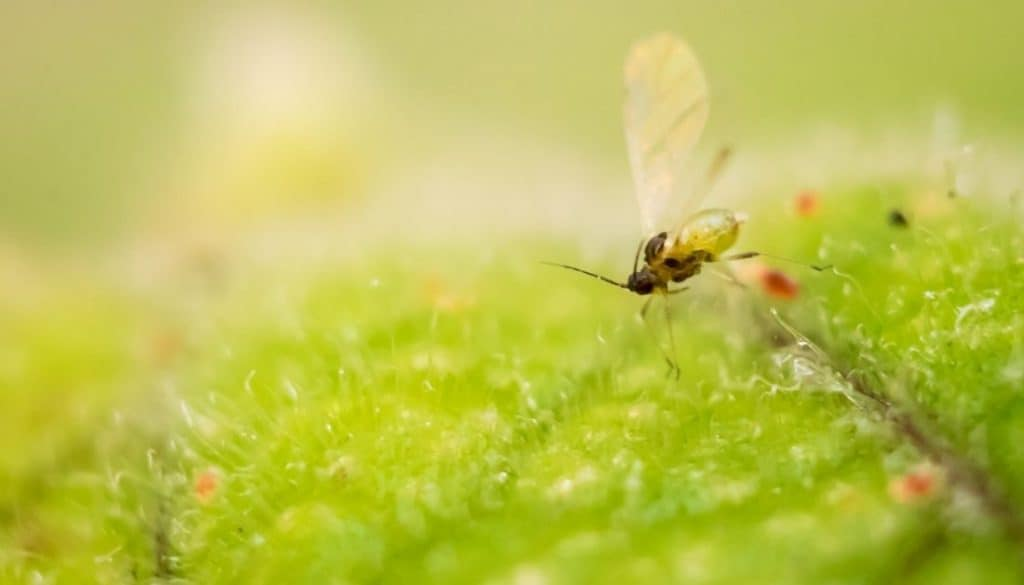insect: (545, 39, 801, 375)
